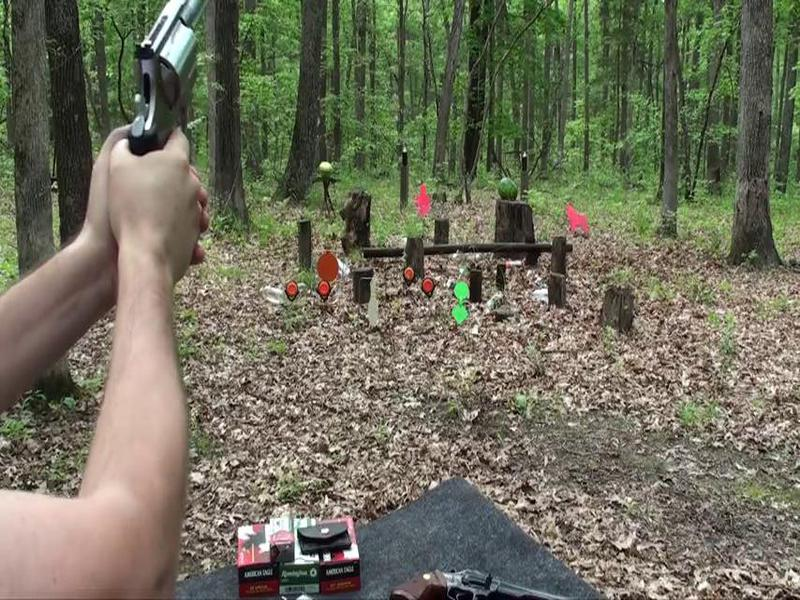Revolver: (101, 1, 221, 240)
